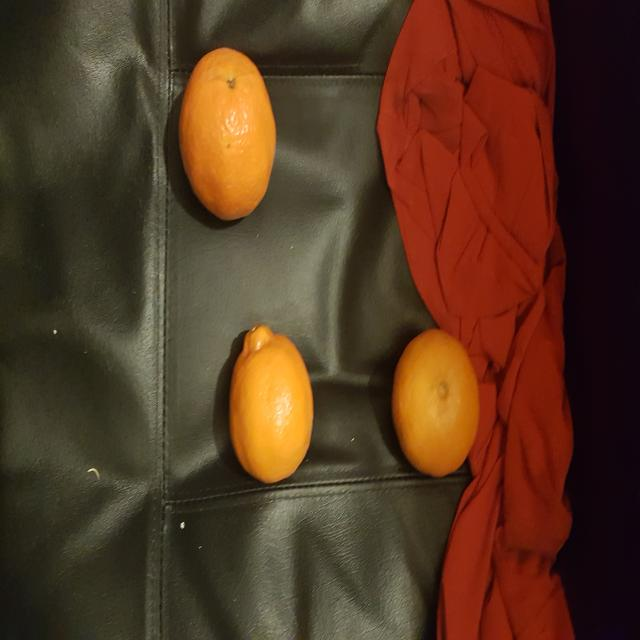Orange: (178, 47, 277, 222), (228, 326, 314, 486), (390, 330, 480, 479)
